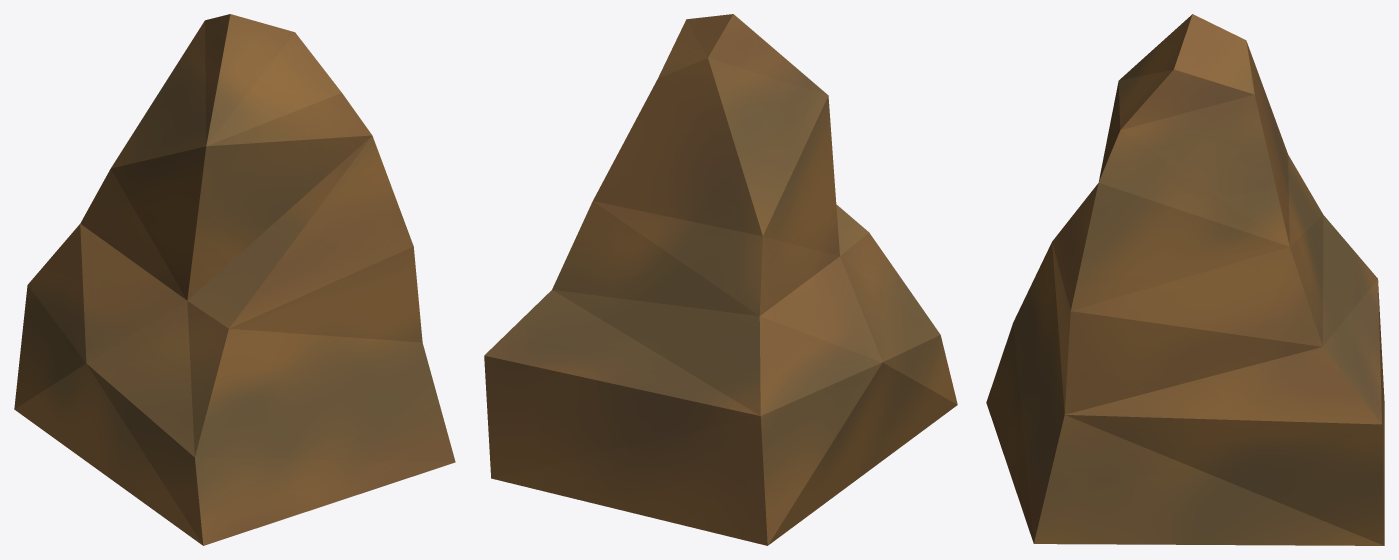
File: rock.fbx
The picture shows the model from 3 angles, left to right: view 1: azimuth 30°, elevation 25°; view 2: azimuth 150°, elevation 25°; view 3: azimuth 270°, elevation 25°; orthographic projection. The views are drawn at different scales.
Parts seen in each view (by area): view 1: rock; view 2: rock; view 3: rock.
Boxes of the visible parts, x1=… form: rock: x1=14, y1=14, x2=455, y2=545; rock: x1=484, y1=14, x2=957, y2=545; rock: x1=986, y1=14, x2=1384, y2=545.
Bounding box in the file's own units: 587 × 796 × 632.
Materials: 1 (1 with a texture image).
